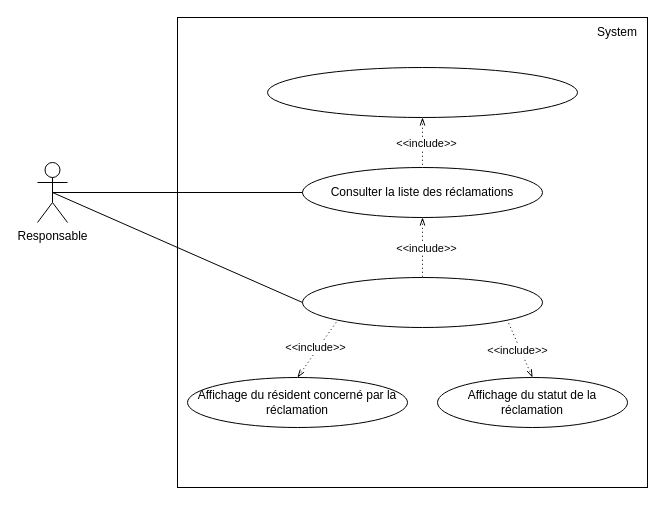
The diagram is 665 pixels wide and 505 high, and some of its shapes have lost their labels. Here are the shapes that lost their labels. From the top down, the box of each, then its label:
(266, 66, 578, 118): Connexion avec un compte Administrateur
(302, 276, 542, 328): Afficher une réclamation
